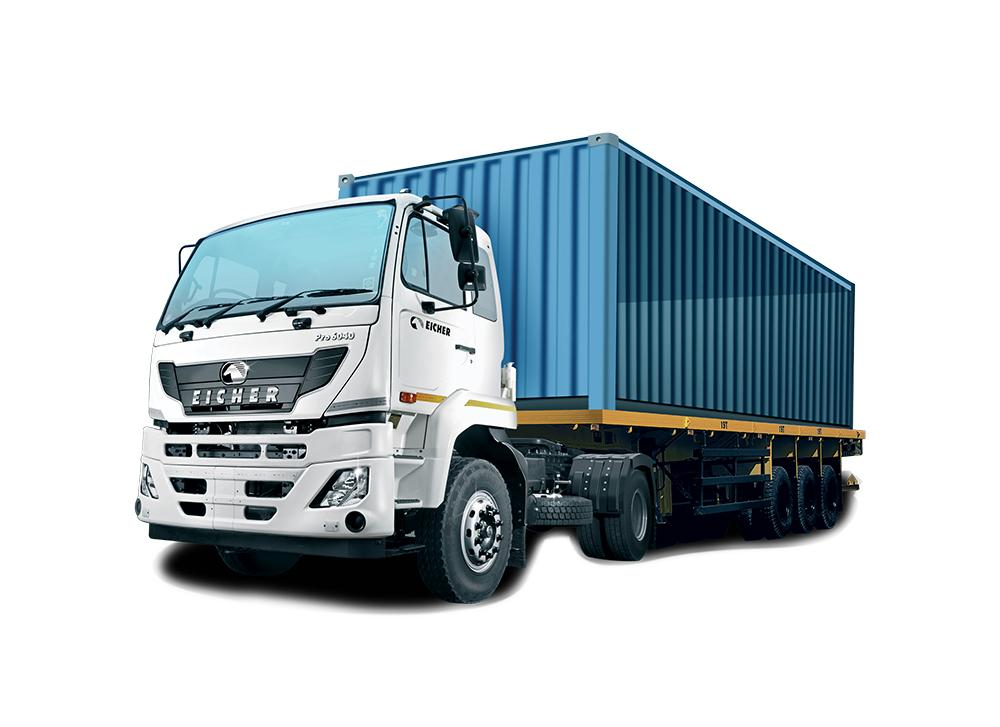truck: (133, 132, 865, 603)
